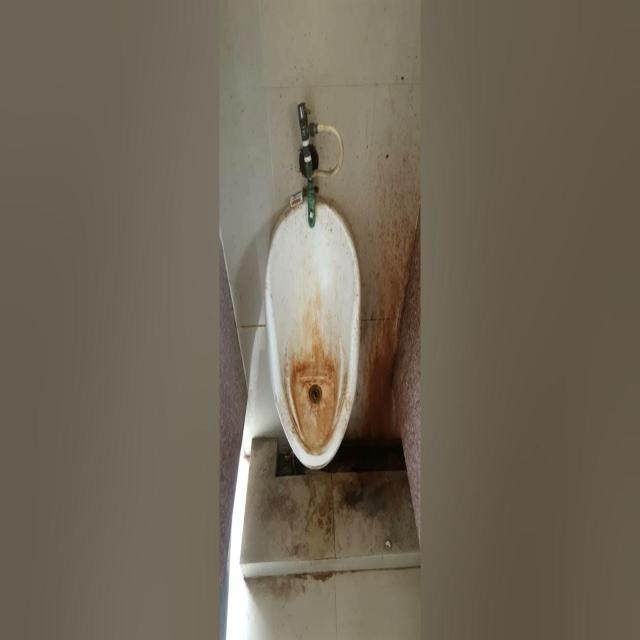damage: (262, 189, 363, 470)
dirty_floor: (2, 0, 637, 638), (217, 1, 423, 639), (238, 435, 421, 638), (283, 296, 343, 455)
